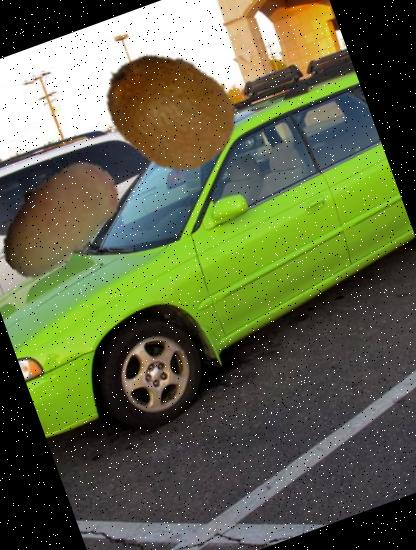Kiwi: (79, 23, 257, 200)
Peach: (0, 129, 144, 303)
